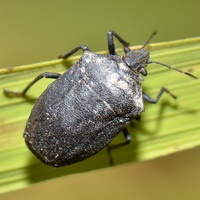insect: (0, 56, 109, 192), (112, 37, 199, 163)
